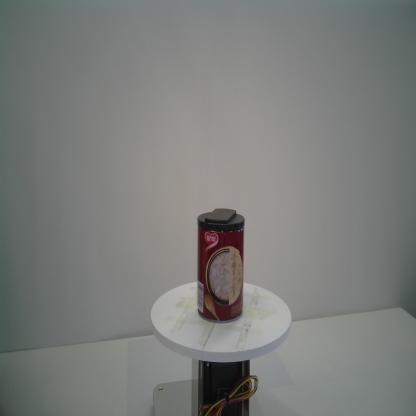Canned Food: (195, 206, 245, 325)
